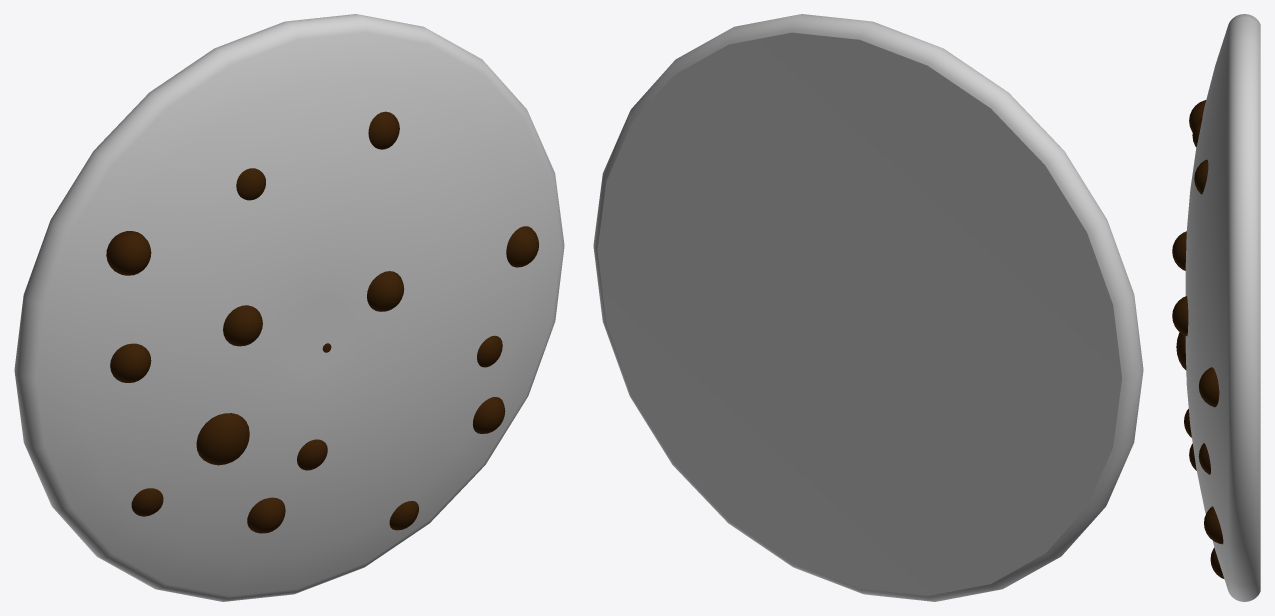
3 views of the same model, side by side, from view 1: azimuth 30°, elevation 25°; view 2: azimuth 150°, elevation 25°; view 3: azimuth 270°, elevation 25° (orthographic). The views are drawn at different scales.
Parts seen in each view (by area): view 1: cookie; view 2: cookie; view 3: cookie.
Part boxes in pixels (x1=…): cookie: x1=14, y1=14, x2=564, y2=601; cookie: x1=593, y1=14, x2=1143, y2=601; cookie: x1=1172, y1=14, x2=1260, y2=601.
Size of the model in its own units: 246 by 246 by 36.93.
